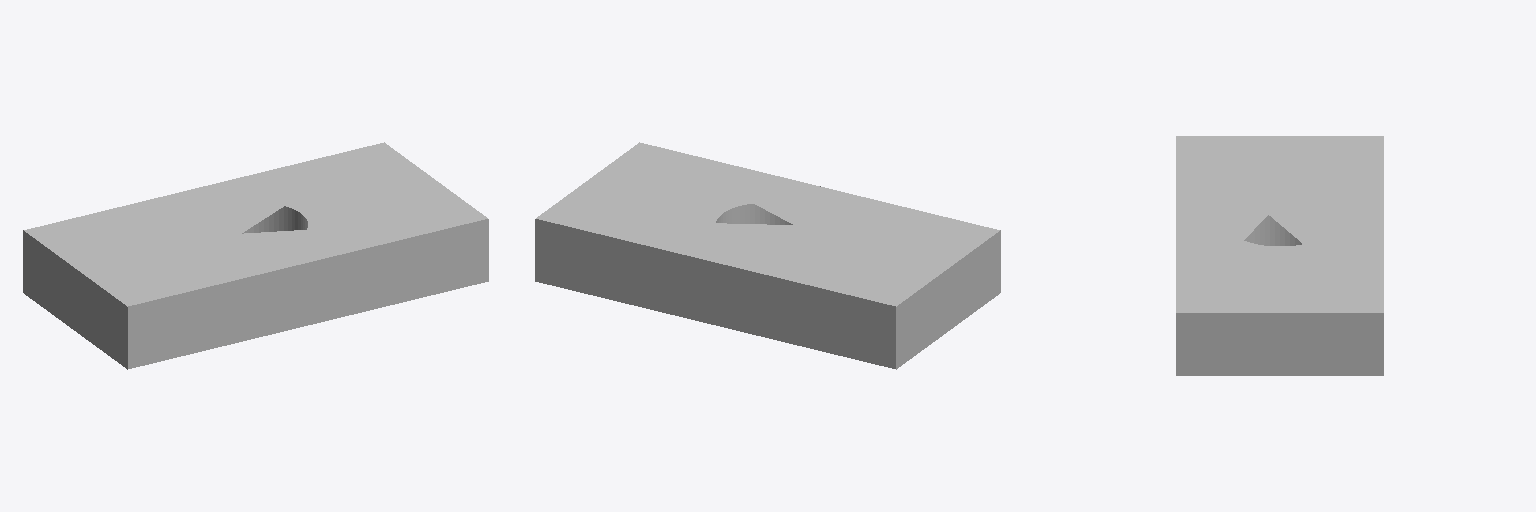
The model's file is finalPlatform1.obj.
The picture shows the model from 3 angles: view 1: azimuth 30°, elevation 25°; view 2: azimuth 150°, elevation 25°; view 3: azimuth 270°, elevation 25°; orthographic projection.
Parts seen in each view (by area): view 1: Cube; view 2: Cube; view 3: Cube.
Part boxes in pixels (bbox=[...]): Cube: bbox=[23, 142, 488, 369]; Cube: bbox=[535, 142, 1000, 369]; Cube: bbox=[1176, 136, 1383, 375].
Bounding box in the file's own units: 1.2 × 0.2 × 0.6.